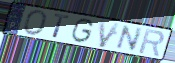G: (70, 17, 95, 44)
N: (114, 24, 145, 53)
O: (22, 9, 49, 37)
R: (137, 27, 166, 57)
T: (52, 12, 72, 40)
V: (98, 19, 122, 49)
